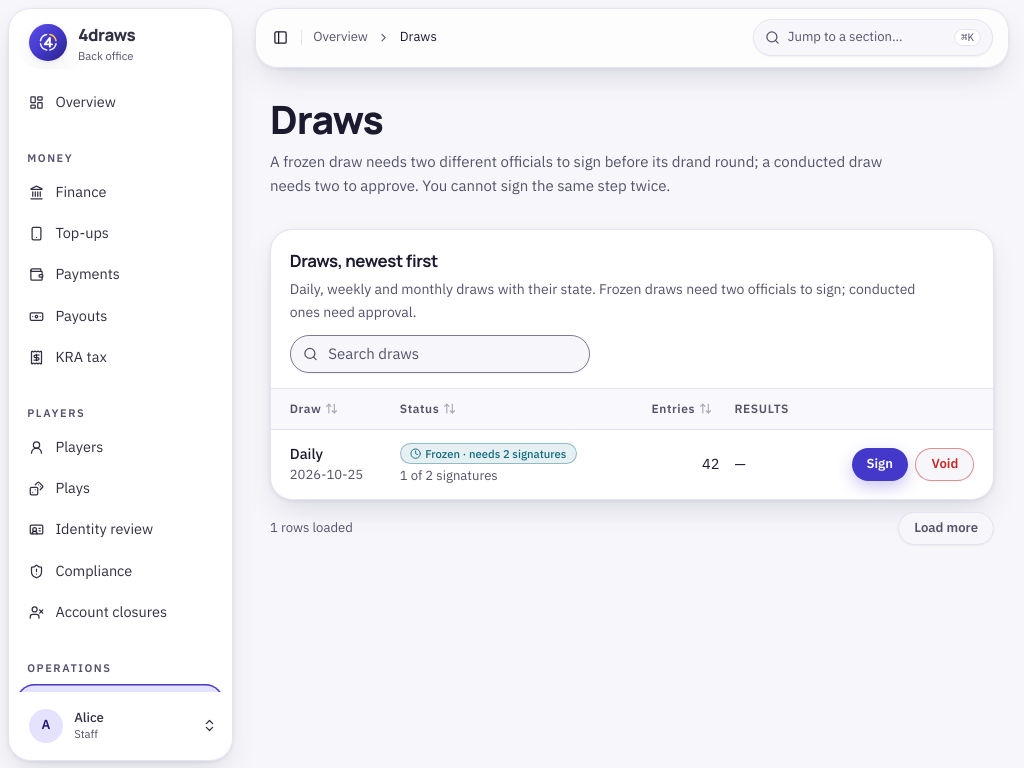
Scenario: draws › shows how many officials have signed, and the two-person refusal in the server’s words
expect the text "1 of 2 signatures" is shown: met, box [400, 467, 498, 486]
Click the button "Sign" at {"x": 880, "y": 464}, box [852, 448, 908, 481]
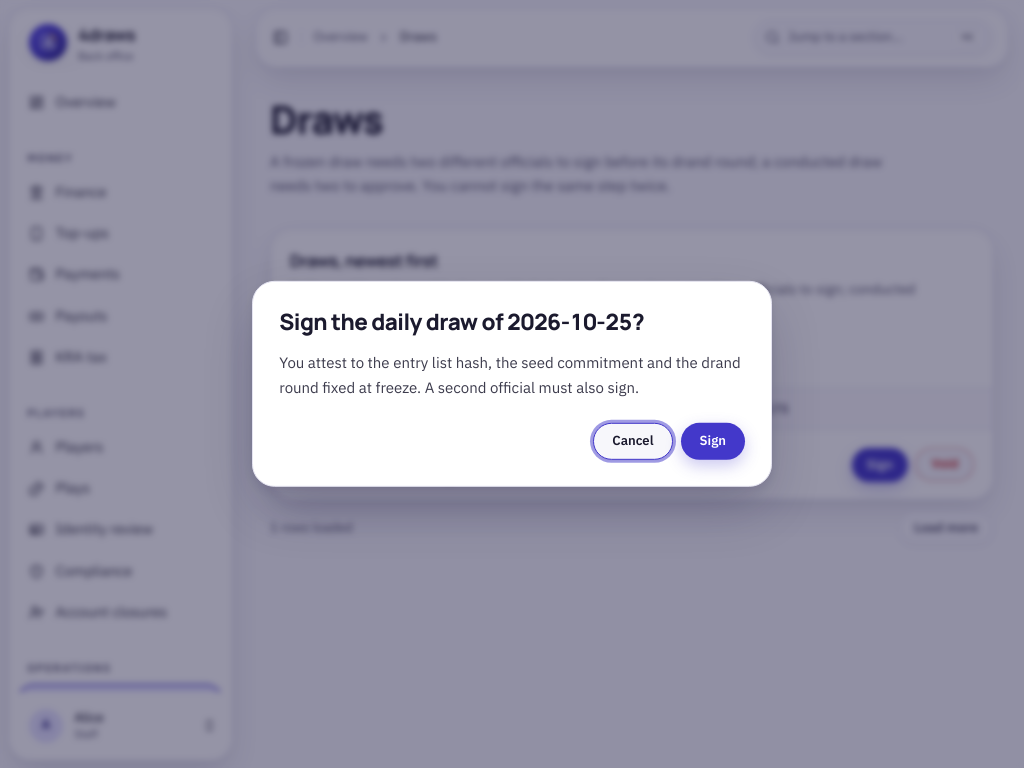
Click the button "Sign" at {"x": 713, "y": 441}, box [681, 422, 745, 460]
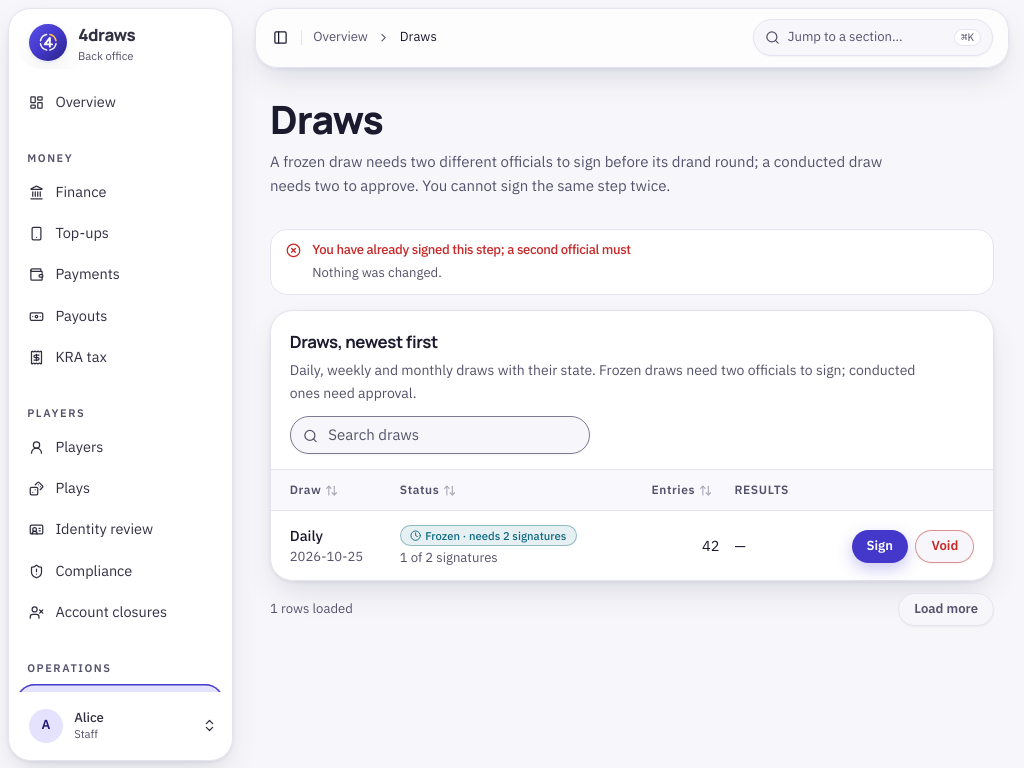
expect the message shows "You have already signed this step; a second official must": met, box [312, 241, 631, 258]
expect the message shows "Nothing was changed.": met, box [312, 263, 442, 280]
